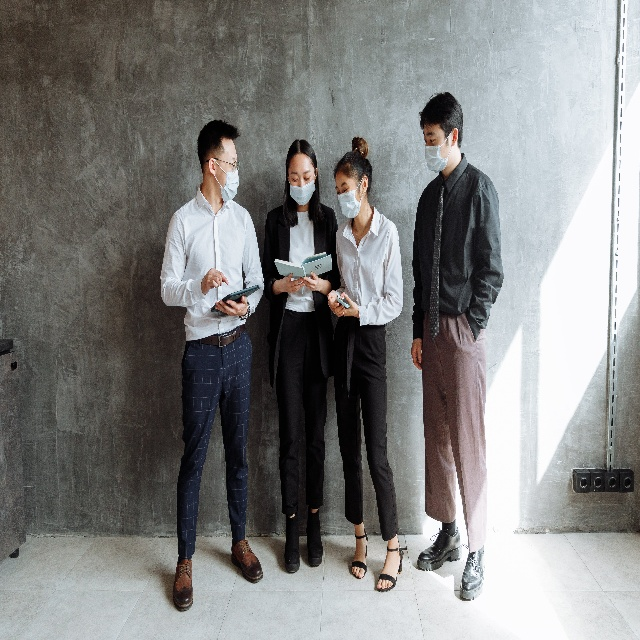Gafas: (206, 156, 239, 174)
Mascara: (423, 128, 454, 171), (212, 158, 239, 203), (337, 176, 364, 219), (287, 170, 316, 206)
Sin_guantes: (213, 295, 248, 319), (201, 267, 229, 291), (338, 289, 357, 319), (281, 272, 305, 294), (326, 290, 344, 318), (299, 271, 319, 293), (410, 338, 422, 371)
